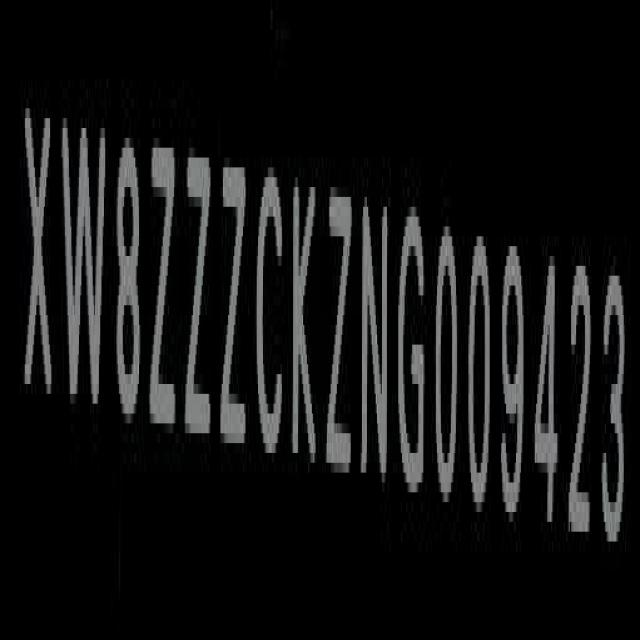0: (434, 200, 459, 510), (466, 213, 490, 526)
2: (568, 247, 594, 552)
3: (601, 259, 627, 556)
4: (537, 240, 563, 542)
8: (116, 119, 143, 442)
9: (499, 226, 526, 534)
C: (257, 150, 286, 468)
G: (397, 186, 427, 496)
K: (289, 164, 318, 482)
N: (358, 165, 389, 497)
W: (60, 90, 104, 435)
X: (23, 81, 53, 423)
Z: (150, 128, 178, 450), (186, 129, 213, 459), (327, 163, 352, 495), (220, 157, 247, 456)
